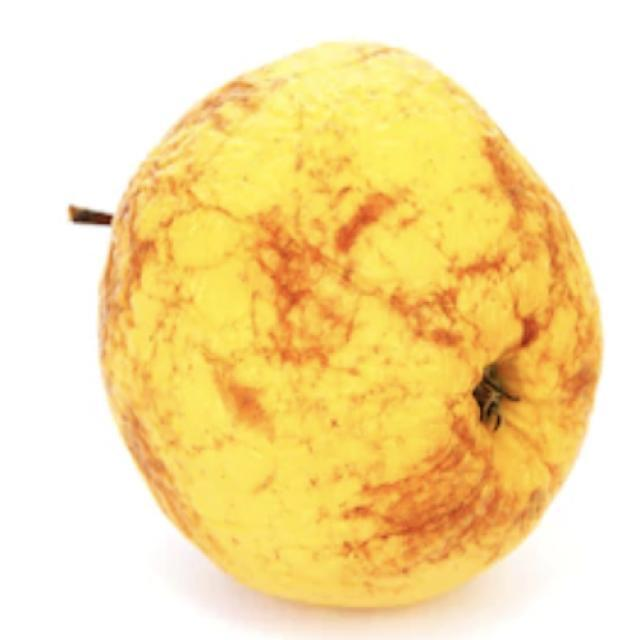Rotten: (108, 44, 592, 598)
